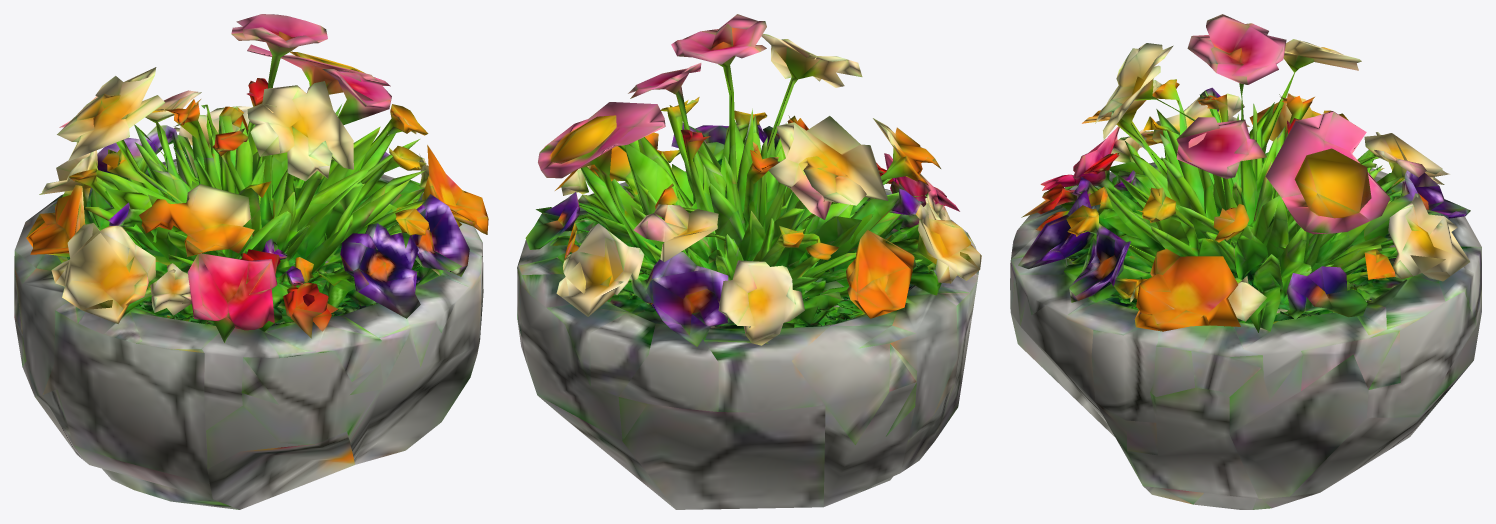
Rendered from prop-planter.glb.
3 renders of one model, left to right at view 1: azimuth 30°, elevation 25°; view 2: azimuth 150°, elevation 25°; view 3: azimuth 270°, elevation 25°, orthographic.
Size of the model in its own units: 1.86 by 1.84 by 1.86.
1 material, 1 textured.
